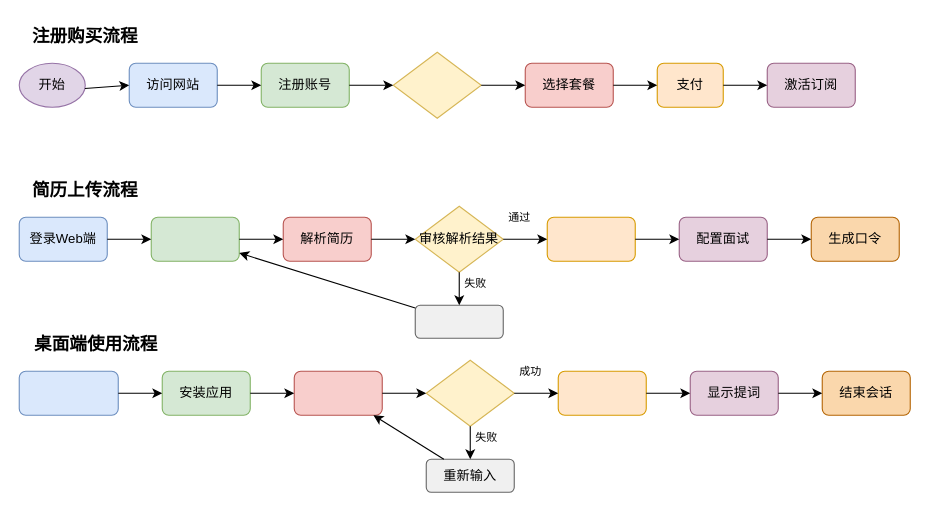
Image size: 930x512. Some labels were removed from this diagram. The box of each missing label's shape, as (x1, y1, x2, y2) in pixels:
上传简历: (150, 216, 239, 261)
下载桌面应用: (18, 370, 118, 415)
保存简历: (546, 216, 635, 261)
启动会话: (557, 370, 646, 415)
输入口令: (293, 370, 382, 415)
邮箱验证: (392, 51, 481, 118)
重新上传: (414, 304, 503, 338)
验证口令: (425, 359, 514, 426)
